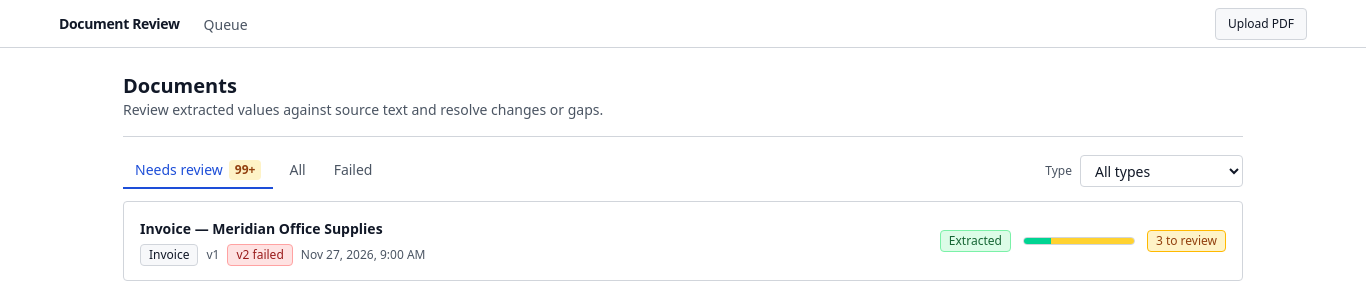
Scenario: DocumentsListPage & UploadDialog › renders tabs, 99+ capped facets badge, progress bar role=img for queued docs, newerFailed chip, and switches tabs
Expected: the tab "Needs review 99+" is shown, [123,153,274,189]
Expected: the tab "All" is shown, [278,153,318,189]
Click the tab "Failed" at (353, 171), box [322,153,384,189]
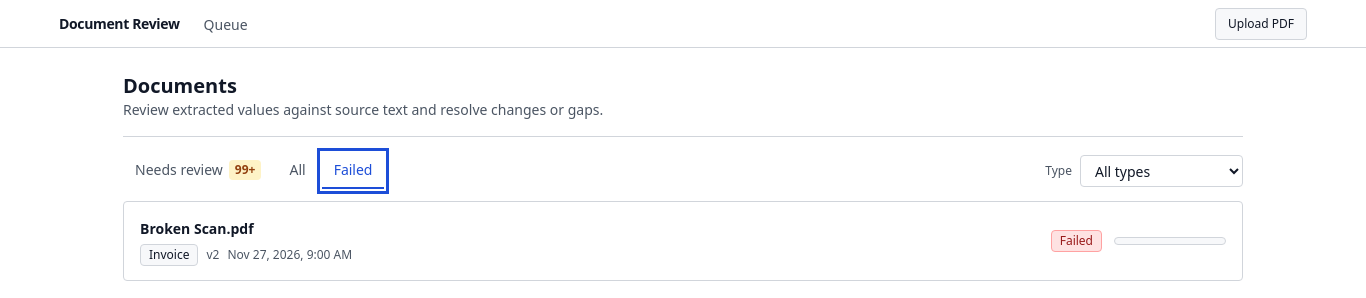
Now the link "Broken Scan.pdf" is shown, box [140,219,254,238]
Now the picture named "no extracted fields yet" is shown, box [1114,237,1226,245]
